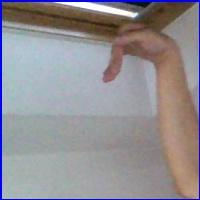del: (97, 15, 179, 86)
